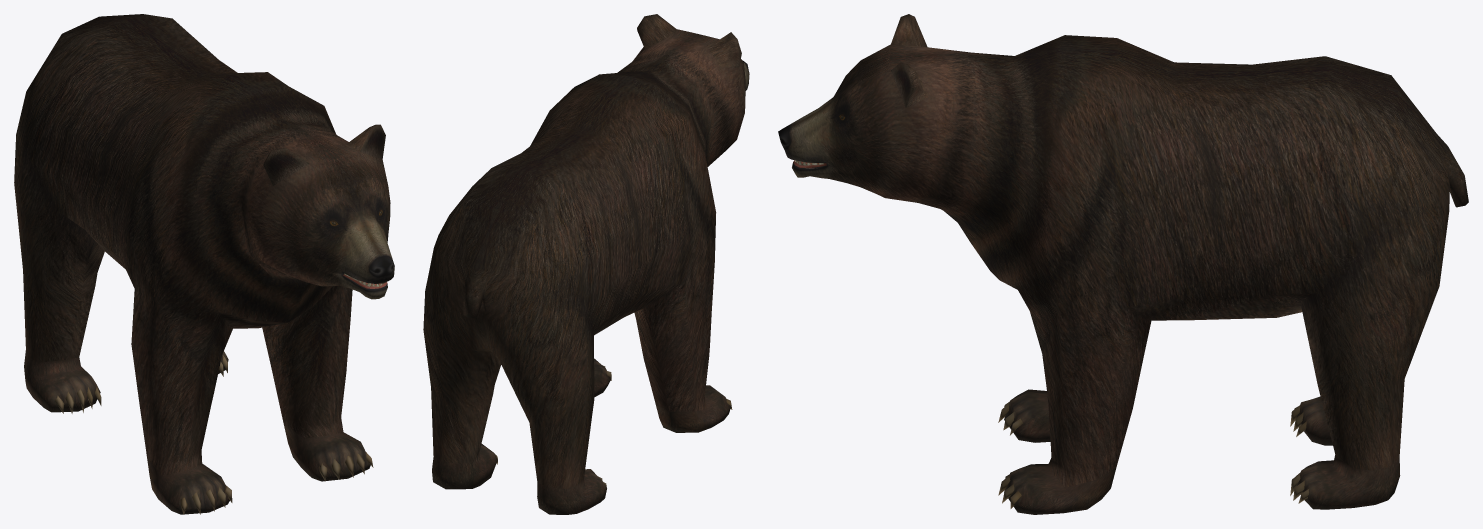
Rendered from bear.obj.
3 renders of one model, left to right at view 1: azimuth 30°, elevation 25°; view 2: azimuth 150°, elevation 25°; view 3: azimuth 270°, elevation 25°, orthographic. The views are drawn at different scales.
Parts seen in each view (by area): view 1: bear____N; view 2: bear____N; view 3: bear____N.
Part boxes in pixels (<box>): bear____N: <box>14,14,394,514</box>; bear____N: <box>423,14,749,514</box>; bear____N: <box>778,14,1468,514</box>.
Size of the model in its own units: 10.24 by 19.71 by 28.84.
